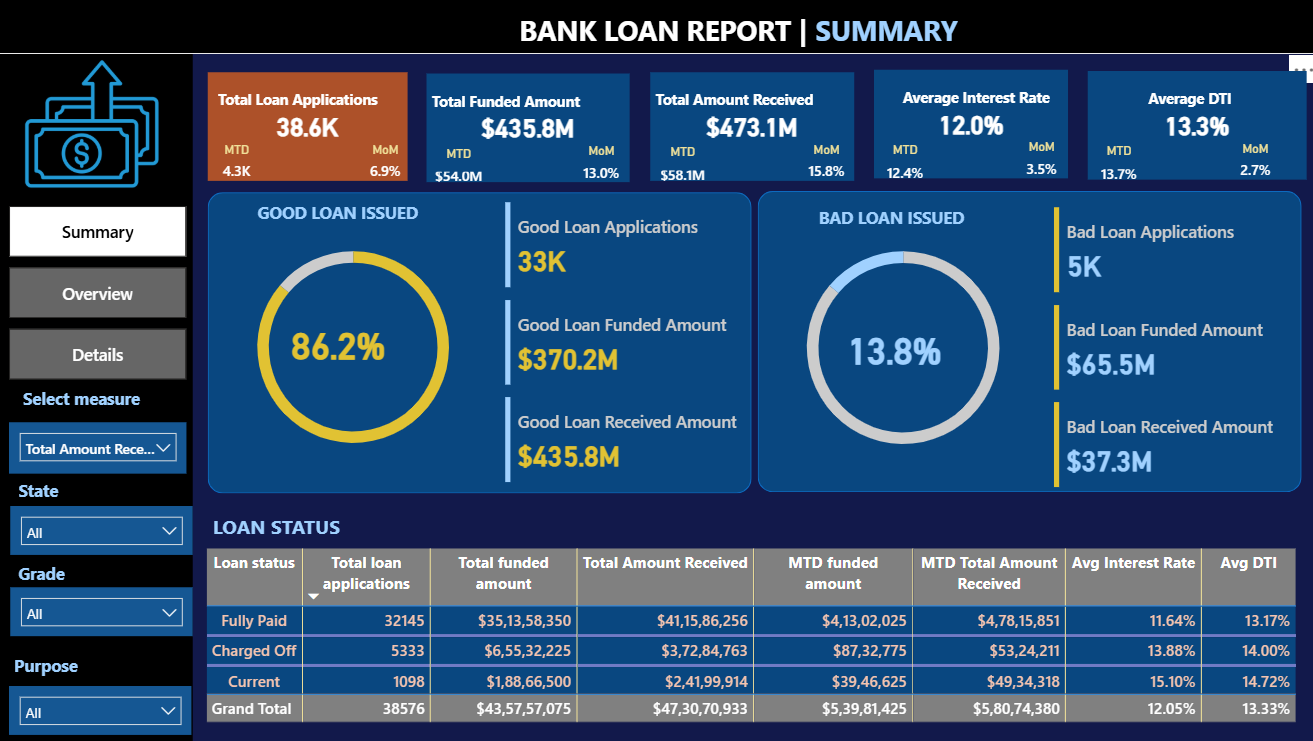

This screenshot's page, from the dashboard's own definition file:
{"tool":"powerbi","page":{"name":"Summary","canvas":[1280,720],"ordinal":0},"visuals":[{"type":"shape","box":[0,55.5,191.8,664.5],"z":0},{"type":"shape","box":[0,0,1279.6,55],"z":1000},{"type":"shape","box":[206.2,189.3,524.6,290.7],"z":2000},{"type":"textbox","box":[466.7,3.6,457.1,48.2],"z":3000},{"type":"card","fields":{"Values":["bank_loan_data.Average Interest Rate"]},"box":[848.8,71.1,187.6,104.9],"z":3000,"group":"g4"},{"type":"card","fields":{"Values":["bank_loan_data.Avg DTI"]},"box":[1055.4,72.2,211,104.9],"z":3000,"group":"g5"},{"type":"card","fields":{"Values":["bank_loan_data.Total Amount Reeceived"]},"box":[633.6,73.3,196.4,104.9],"z":3000,"group":"g3"},{"type":"card","fields":{"Values":["bank_loan_data.Total loan applications"]},"box":[206.1,73.6,192.5,104.9],"z":3000,"group":"g1"},{"type":"card","fields":{"Values":["bank_loan_data.Total funded amount"]},"box":[417.3,74.5,195.7,104.9],"z":3000,"group":"g2"},{"type":"group","id":"g1","title":"Group 1","box":[185.7,73.6,240,113.4],"z":4000},{"type":"textbox","box":[848.8,83.2,197.1,30.2],"z":4000,"group":"g4"},{"type":"textbox","box":[1055.4,84.3,197.1,30.2],"z":4000,"group":"g5"},{"type":"textbox","box":[633.6,85.4,206.5,30.2],"z":4000,"group":"g3"},{"type":"textbox","box":[211,86.1,202.1,30.2],"z":4000,"group":"g1"},{"type":"textbox","box":[417.3,86.6,205.7,30.2],"z":4000,"group":"g2"},{"type":"card","title":"MTD","fields":{"Values":["bank_loan_data.MTD Loan Applications"]},"box":[185.7,141.6,96.8,45.8],"z":5000,"group":"g1"},{"type":"card","title":"MTD","fields":{"Values":["bank_loan_data.MTD Avg Int Rate"]},"box":[828.2,141.6,101.3,38.6],"z":5000,"group":"g4"},{"type":"card","title":"MTD","fields":{"Values":["bank_loan_data.MTD Avg DTI"]},"box":[1034.8,142.7,101.3,38.6],"z":5000,"group":"g5"},{"type":"card","title":"MTD","fields":{"Values":["bank_loan_data.MTD Total Amount Received"]},"box":[612.1,143.8,106.1,38.6],"z":5000,"group":"g3"},{"type":"card","title":"MTD","fields":{"Values":["bank_loan_data.MTD funded amount"]},"box":[395.9,145,105.7,38.6],"z":5000,"group":"g2"},{"type":"card","fields":{"Values":["bank_loan_data.Good Loan %"]},"box":[258.1,285.8,148.3,97.7],"z":5000},{"type":"shape","box":[0,0,1279.6,55.5],"z":5500},{"type":"group","id":"g2","title":"Group 1","box":[395.9,74.5,240,113.4],"z":6000},{"type":"card","title":"MoM","fields":{"Values":["bank_loan_data.MoM Avg Int Rate"]},"box":[963.8,138.6,94.5,45.8],"z":6000,"group":"g4"},{"type":"card","title":"MoM","fields":{"Values":["bank_loan_data.MoM Avg DTI"]},"box":[1170.4,139.7,94.5,45.8],"z":6000,"group":"g5"},{"type":"card","title":"MoM","fields":{"Values":["bank_loan_data.MoM Total received amount"]},"box":[754.1,140.8,98.9,45.8],"z":6000,"group":"g3"},{"type":"card","title":"MoM","fields":{"Values":["bank_loan_data.MoM Loan Application"]},"box":[328.9,141.6,96.8,45.8],"z":6000,"group":"g1"},{"type":"card","title":"MoM","fields":{"Values":["bank_loan_data.MoM Total funded amount"]},"box":[537.3,142,98.6,45.8],"z":6000,"group":"g2"},{"type":"group","id":"g3","title":"Group 1","box":[612.1,73.3,240,113.4],"z":7000},{"type":"group","id":"g4","title":"Group 1","box":[828.2,71.1,230.4,113.4],"z":8000},{"type":"donutChart","fields":{"Category":["bank_loan_data.Good V Bad Loan"],"Y":["bank_loan_data.Total loan applications"]},"box":[224.3,218.3,244.8,241.2],"z":9000},{"type":"group","id":"g5","title":"Group 1","box":[1034.8,72.2,231.6,113.4],"z":10000},{"type":"shape","box":[736.9,188.1,524.6,290.7],"z":11000},{"type":"textbox","box":[224.3,193,214.7,41],"z":12000},{"type":"cardVisual","fields":{"Data":["bank_loan_data.Good Loan Applications","bank_loan_data.Good Loan Funded Amount","bank_loan_data.Good Loan Received Amount"]},"box":[488.4,194.2,248.4,282.2],"z":14000},{"type":"cardVisual","fields":{"Data":["bank_loan_data.Bad Loan Applications","bank_loan_data.Bad Loan Funded Amount","bank_loan_data.Bad Loan Received Amount"]},"box":[1017.9,199,236.4,282.2],"z":15000},{"type":"donutChart","fields":{"Category":["bank_loan_data.Good V Bad Loan"],"Y":["bank_loan_data.Total loan applications"]},"box":[736.9,218.3,281,242.4],"z":16000},{"type":"textbox","box":[758.6,197.8,214.7,41],"z":17000},{"type":"card","fields":{"Values":["bank_loan_data.Bad Loan %"]},"box":[794.8,290.7,148.3,97.7],"z":18000},{"type":"tableEx","fields":{"Values":["bank_loan_data.loan_status","bank_loan_data.Total loan applications","bank_loan_data.Total funded amount","bank_loan_data.Total Amount Reeceived","bank_loan_data.MTD funded amount","bank_loan_data.MTD Total Amount Received","bank_loan_data.Average Interest Rate","bank_loan_data.Avg DTI"]},"box":[199,528.2,1064.9,180.9],"z":19000},{"type":"textbox","box":[206.2,494.5,300.3,44.6],"z":20000},{"type":"textbox","box":[501.7,9.6,535.5,45.8],"z":21000},{"type":"image","box":[6,44.6,176.1,158],"z":22000},{"type":"slicer","fields":{"Values":["bank_loan_data.address_state"]},"box":[15.7,492.1,176.1,47],"z":23000},{"type":"slicer","fields":{"Values":["bank_loan_data.grade"]},"box":[15.4,570,176.1,47],"z":24000},{"type":"slicer","fields":{"Values":["bank_loan_data.purpose"]},"box":[14.2,665.2,176.1,47],"z":25000},{"type":"textbox","box":[14.5,460.7,56.7,41],"z":26000},{"type":"textbox","box":[5.8,541,79.6,41],"z":27000},{"type":"textbox","box":[5.8,629.1,88,41],"z":28000},{"type":"textbox","box":[14.5,372.7,139.9,38.6],"z":29000},{"type":"slicer","fields":{"Values":["Select measure.Select measure"]},"box":[14.5,411.3,171.3,49.4],"z":30000},{"type":"pageNavigator","box":[14.5,202.6,171.3,167.6],"z":31000}]}

Visuals, with their boxes in screenshot pixels (x1, y1, x2, y2), scaled from the page's 1280x720 canvas onto the 1313x741 screenshot:
shape: bbox=(0, 57, 197, 740)
shape: bbox=(0, 0, 1312, 57)
shape: bbox=(212, 195, 750, 494)
textbox: bbox=(479, 4, 948, 53)
card - bank_loan_data.Average Interest Rate: bbox=(871, 73, 1063, 181)
card - bank_loan_data.Avg DTI: bbox=(1083, 74, 1299, 182)
card - bank_loan_data.Total Amount Reeceived: bbox=(650, 75, 851, 183)
card - bank_loan_data.Total loan applications: bbox=(211, 76, 409, 184)
card - bank_loan_data.Total funded amount: bbox=(428, 77, 629, 185)
"Group 1" group: bbox=(190, 76, 437, 192)
textbox: bbox=(871, 86, 1073, 117)
textbox: bbox=(1083, 87, 1285, 118)
textbox: bbox=(650, 88, 862, 119)
textbox: bbox=(216, 89, 424, 120)
textbox: bbox=(428, 89, 639, 120)
"MTD" card: bbox=(190, 146, 290, 193)
"MTD" card: bbox=(850, 146, 953, 185)
"MTD" card: bbox=(1061, 147, 1165, 187)
"MTD" card: bbox=(628, 148, 737, 188)
"MTD" card: bbox=(406, 149, 515, 189)
card - bank_loan_data.Good Loan %: bbox=(265, 294, 417, 395)
shape: bbox=(0, 0, 1312, 57)
"Group 1" group: bbox=(406, 77, 652, 193)
"MoM" card: bbox=(989, 143, 1086, 190)
"MoM" card: bbox=(1201, 144, 1298, 191)
"MoM" card: bbox=(774, 145, 875, 192)
"MoM" card: bbox=(337, 146, 437, 193)
"MoM" card: bbox=(551, 146, 652, 193)
"Group 1" group: bbox=(628, 75, 874, 192)
"Group 1" group: bbox=(850, 73, 1086, 190)
donutChart - bank_loan_data.Good V Bad Loan x bank_loan_data.Total loan applications: bbox=(230, 225, 481, 473)
"Group 1" group: bbox=(1061, 74, 1299, 191)
shape: bbox=(756, 194, 1294, 493)
textbox: bbox=(230, 199, 450, 241)
cardVisual - bank_loan_data.Good Loan Applications x bank_loan_data.Good Loan Funded Amount: bbox=(501, 200, 756, 490)
cardVisual - bank_loan_data.Bad Loan Applications x bank_loan_data.Bad Loan Funded Amount: bbox=(1044, 205, 1287, 495)
donutChart - bank_loan_data.Good V Bad Loan x bank_loan_data.Total loan applications: bbox=(756, 225, 1044, 474)
textbox: bbox=(778, 204, 998, 246)
card - bank_loan_data.Bad Loan %: bbox=(815, 299, 967, 400)
tableEx - bank_loan_data.loan_status x bank_loan_data.Total loan applications: bbox=(204, 544, 1296, 730)
textbox: bbox=(212, 509, 520, 555)
textbox: bbox=(515, 10, 1064, 57)
image: bbox=(6, 46, 187, 209)
slicer - bank_loan_data.address_state: bbox=(16, 506, 197, 555)
slicer - bank_loan_data.grade: bbox=(16, 587, 196, 635)
slicer - bank_loan_data.purpose: bbox=(15, 685, 195, 733)
textbox: bbox=(15, 474, 73, 516)
textbox: bbox=(6, 557, 88, 599)
textbox: bbox=(6, 647, 96, 690)
textbox: bbox=(15, 384, 158, 423)
slicer - Select measure.Select measure: bbox=(15, 423, 191, 474)
pageNavigator: bbox=(15, 209, 191, 381)
